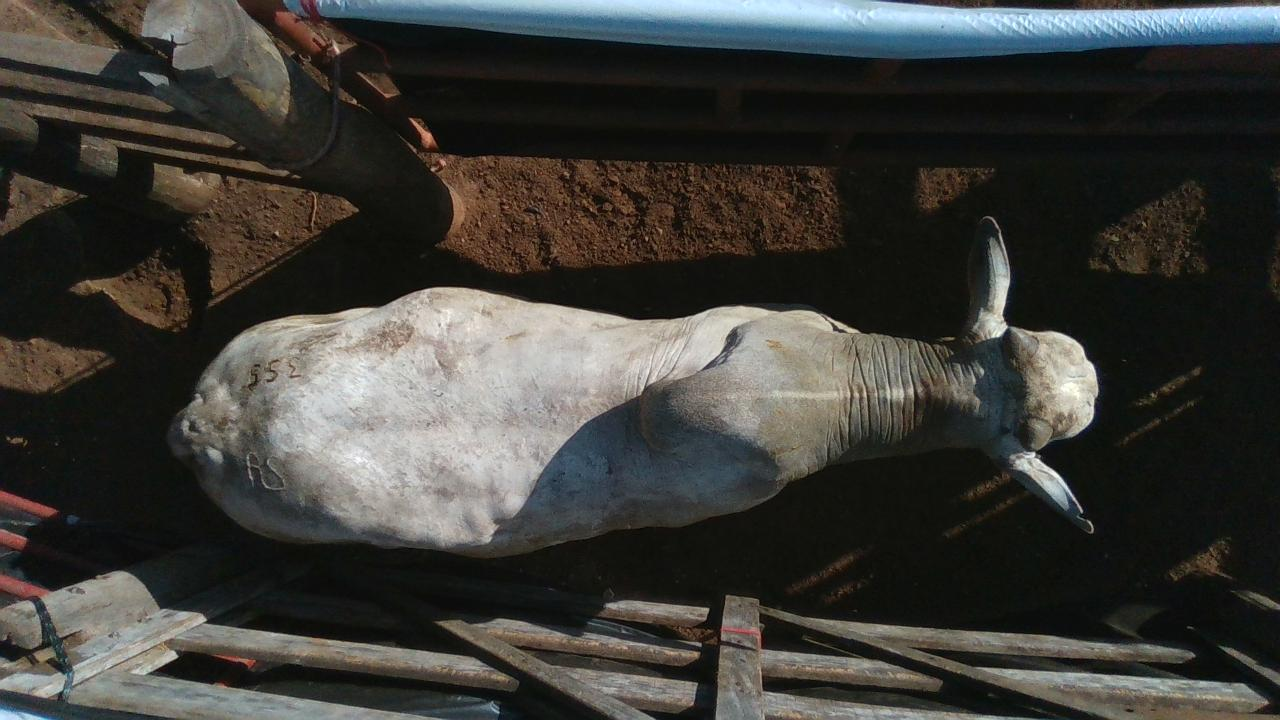cattle: (165, 213, 1101, 559)
